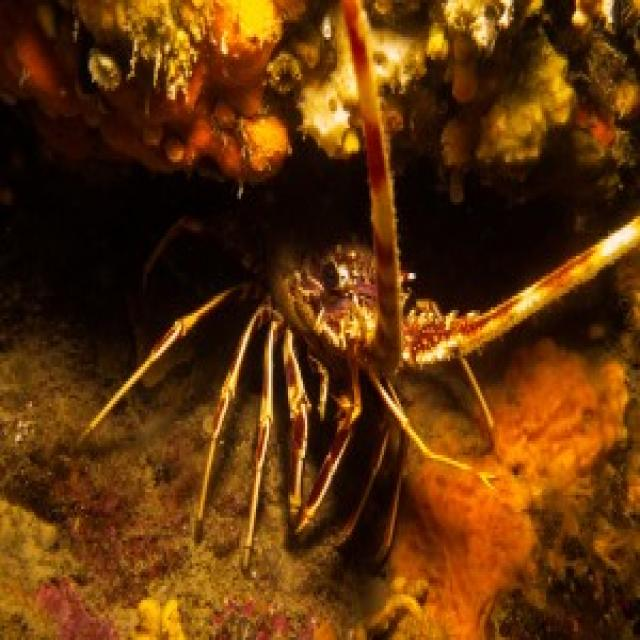lobsters: (120, 91, 568, 540)
